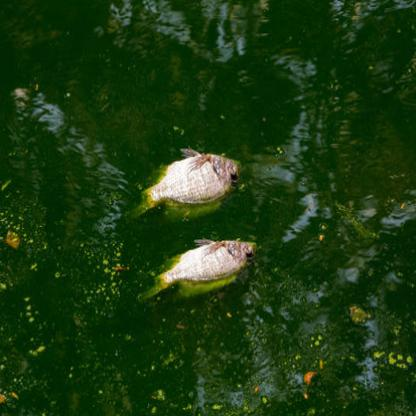deceased fish: (131, 144, 241, 215), (141, 238, 257, 301)
